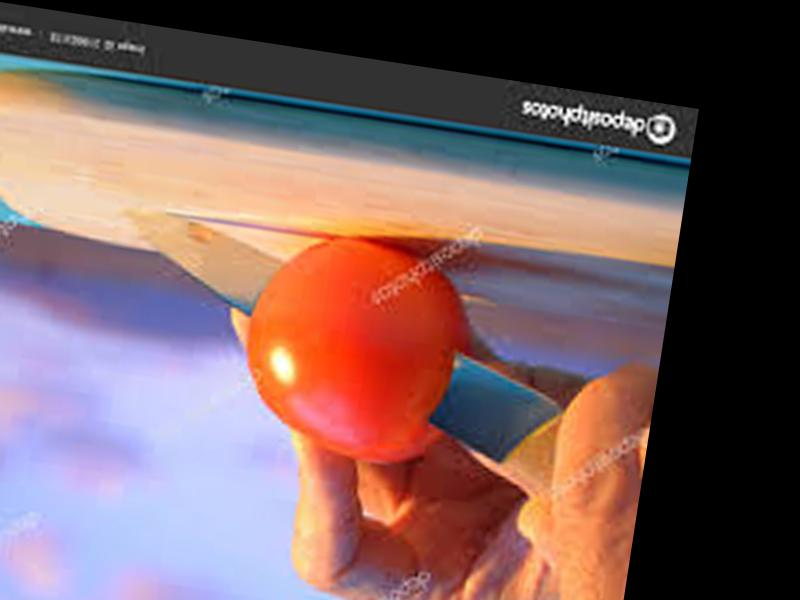Tomato: (229, 219, 485, 471)
